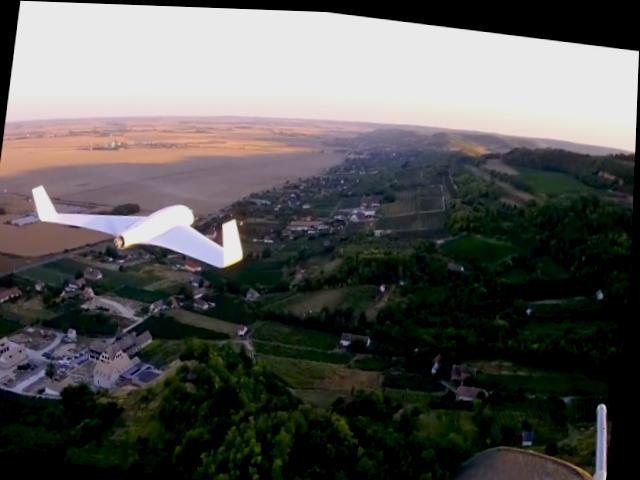plane: (25, 179, 250, 266)
